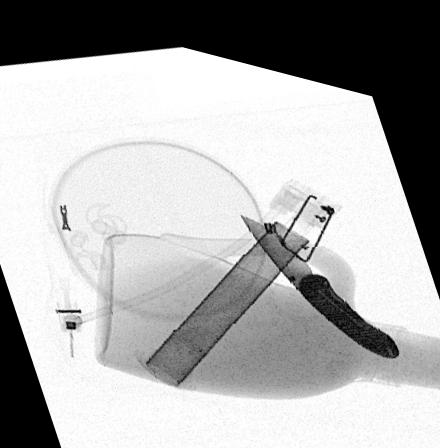Knife: (235, 199, 403, 342)
